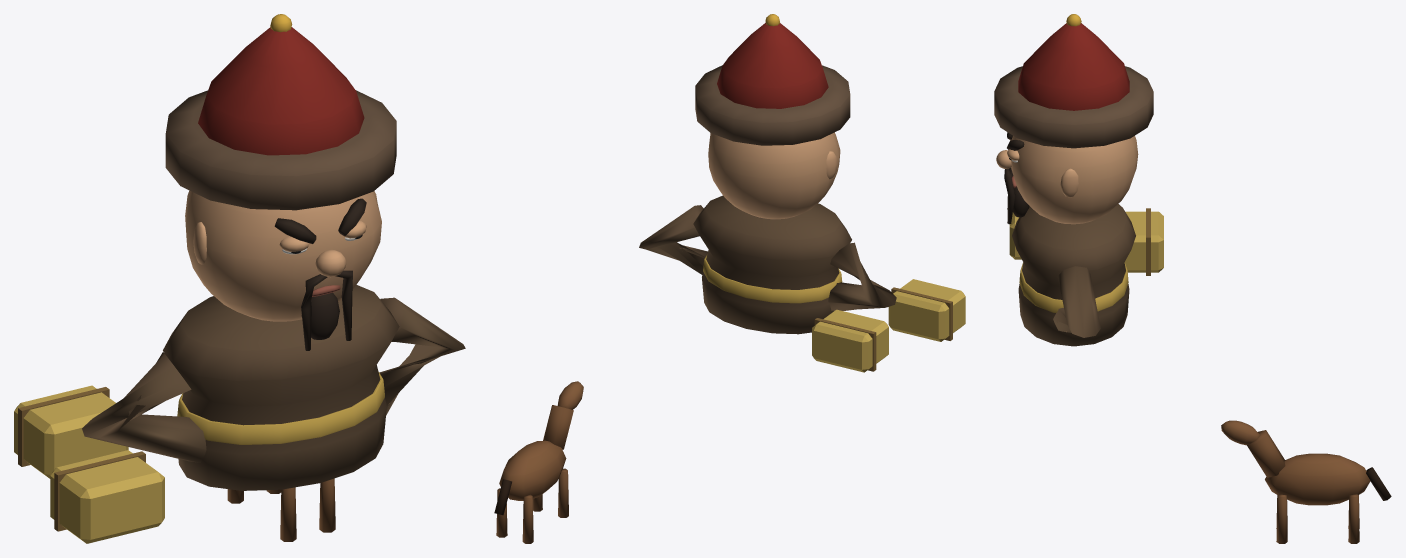
3 views of the same model, side by side, from view 1: azimuth 30°, elevation 25°; view 2: azimuth 150°, elevation 25°; view 3: azimuth 270°, elevation 25° (orthographic). The views are drawn at different scales.
Parts seen in each view (by area): view 1: fig_head, fig_body, fig_props; view 2: fig_head, fig_body, fig_props; view 3: fig_head, fig_body, fig_props.
Boxes of the visible parts, x1=… form: fig_head: x1=165, y1=14, x2=396, y2=350; fig_body: x1=82, y1=285, x2=465, y2=490; fig_props: x1=14, y1=385, x2=335, y2=543; fig_head: x1=695, y1=14, x2=850, y2=219; fig_body: x1=639, y1=195, x2=896, y2=334; fig_props: x1=494, y1=279, x2=965, y2=543; fig_head: x1=994, y1=14, x2=1153, y2=224; fig_body: x1=1012, y1=204, x2=1135, y2=346; fig_props: x1=1009, y1=208, x2=1391, y2=543.
Bounding box in the file's own units: 1.4 × 1.98 × 1.55.
